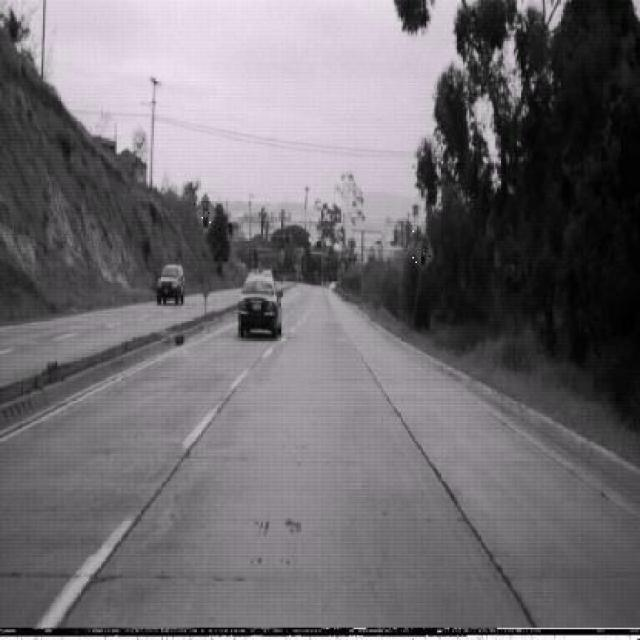signalAhead: (412, 230, 435, 272), (194, 192, 216, 235)
